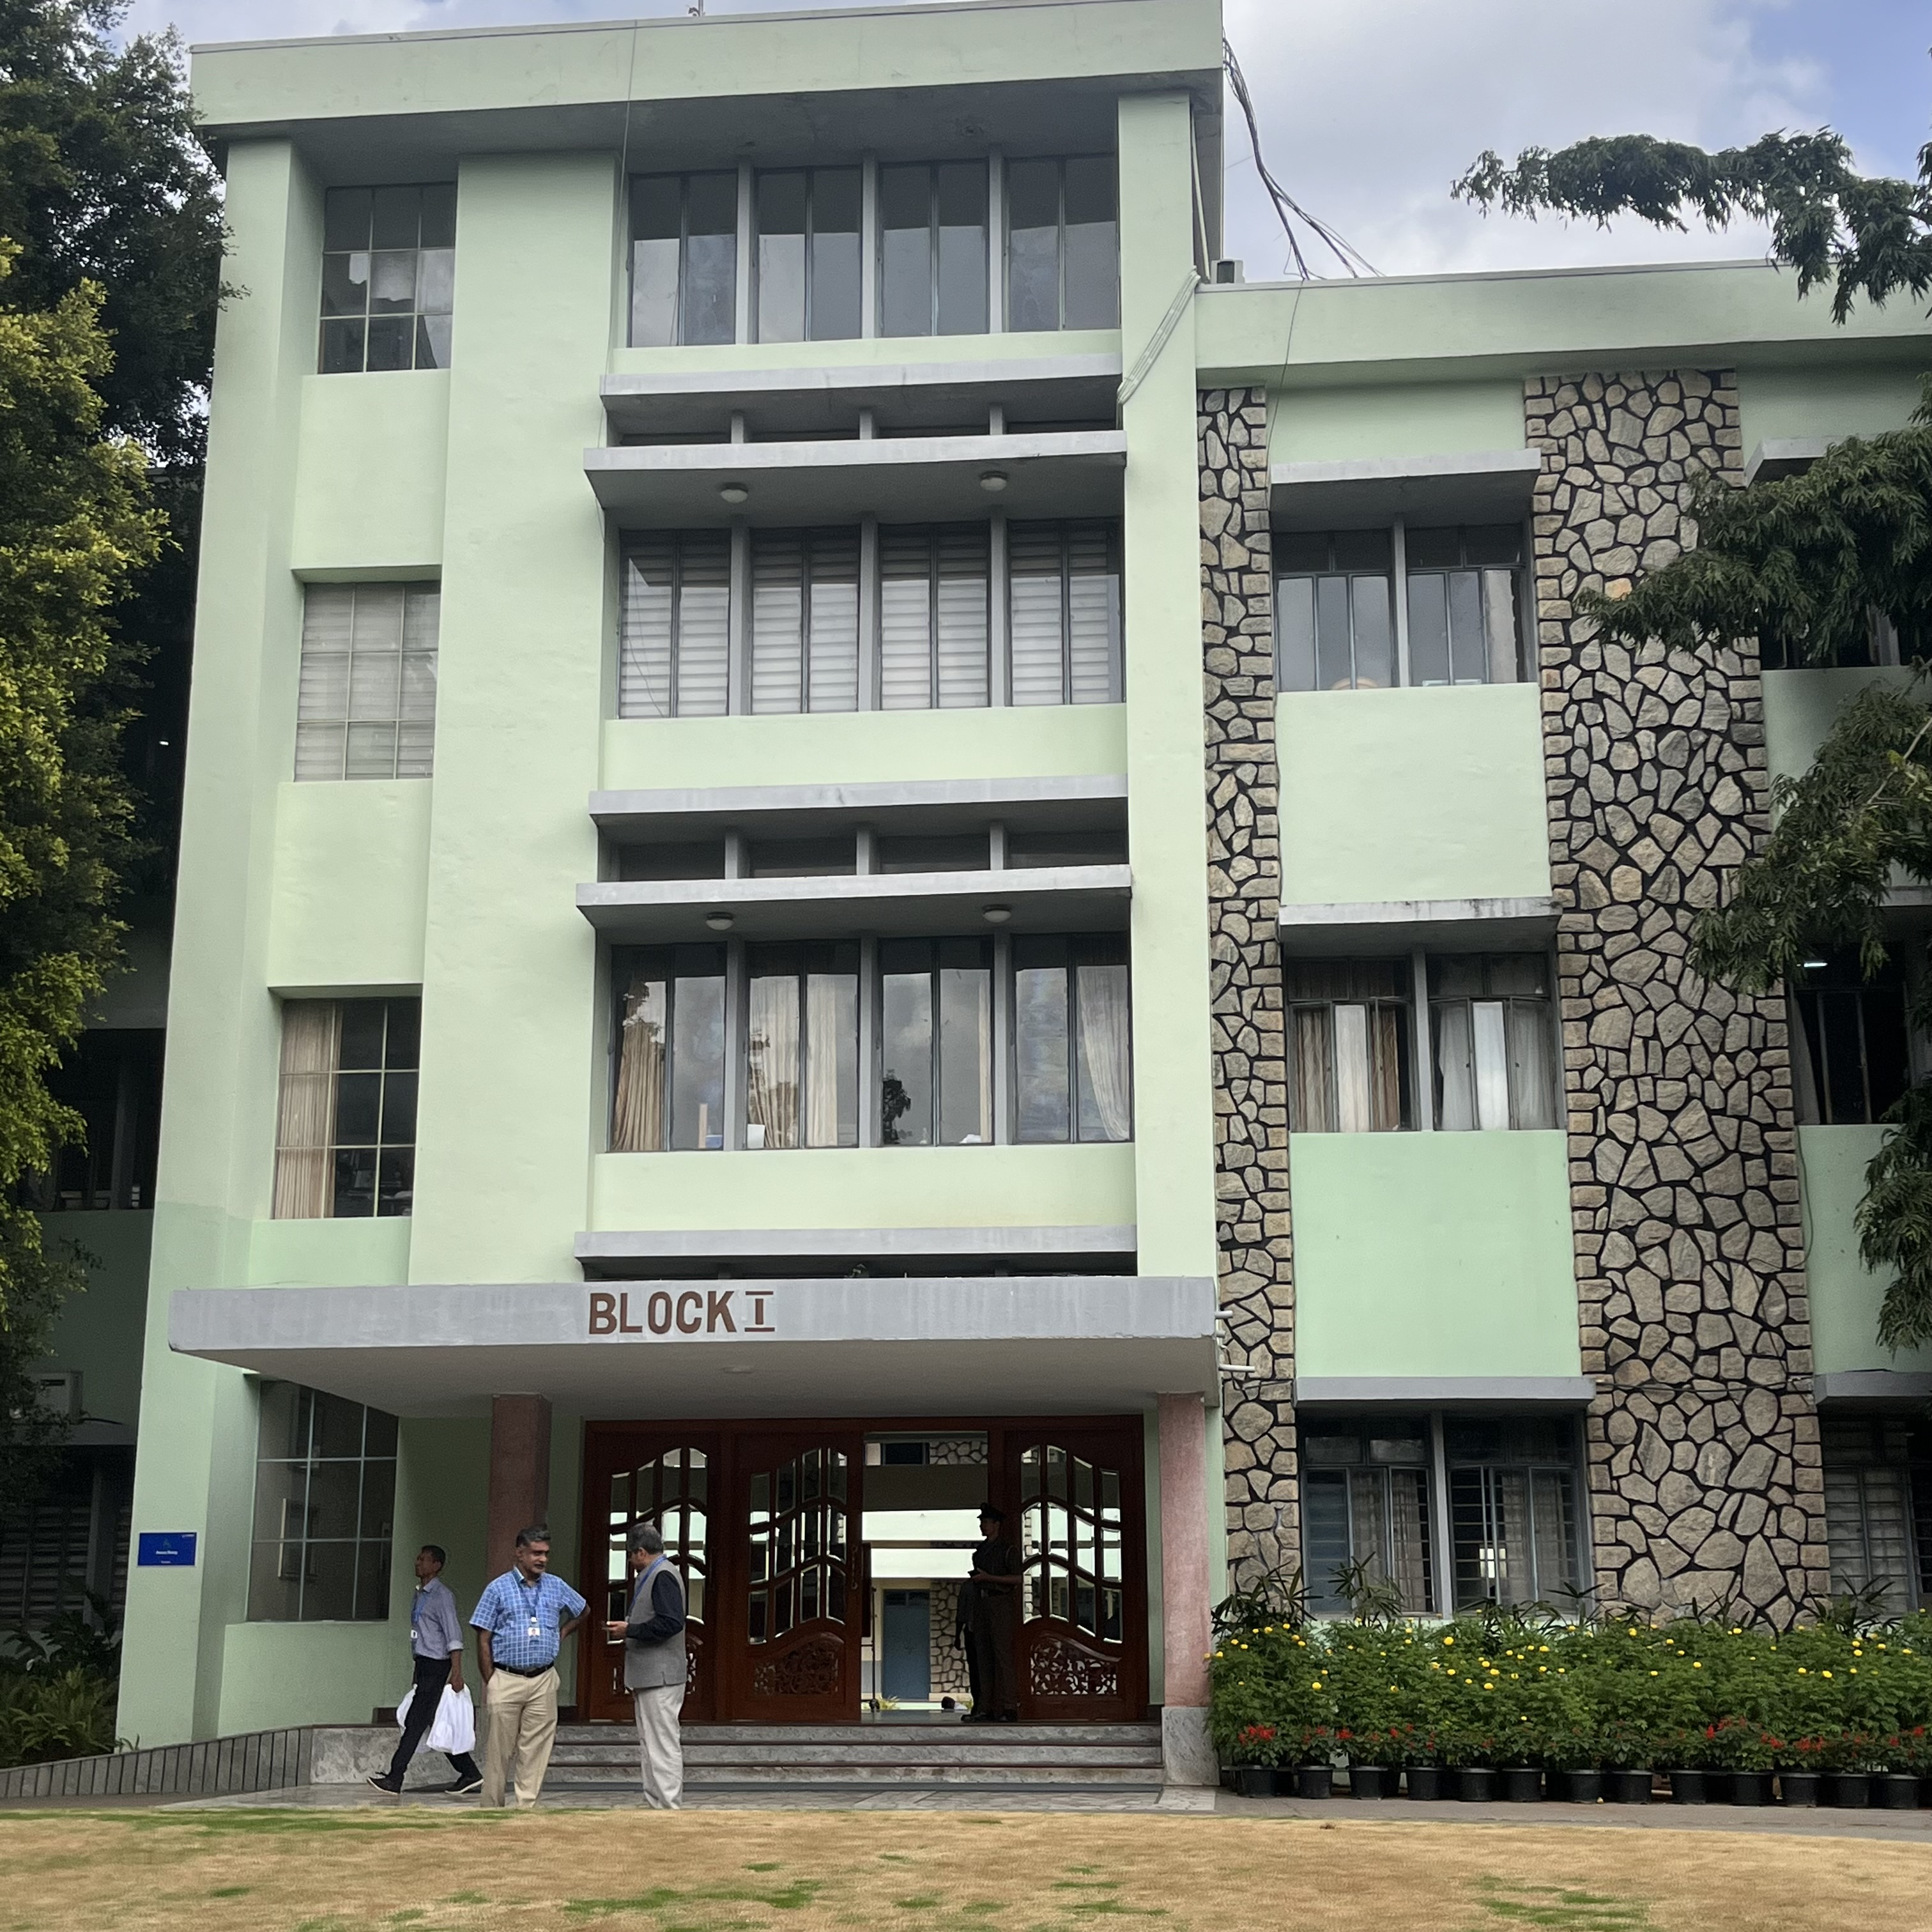Block 1: (159, 30, 1806, 1629)
